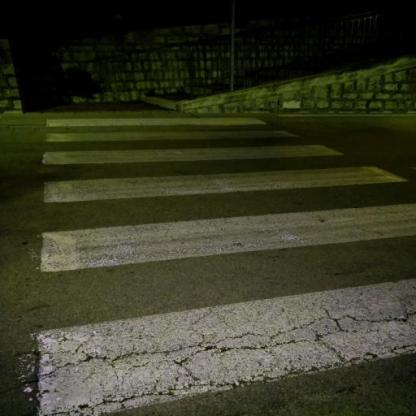crosswalk: (26, 141, 414, 209)
